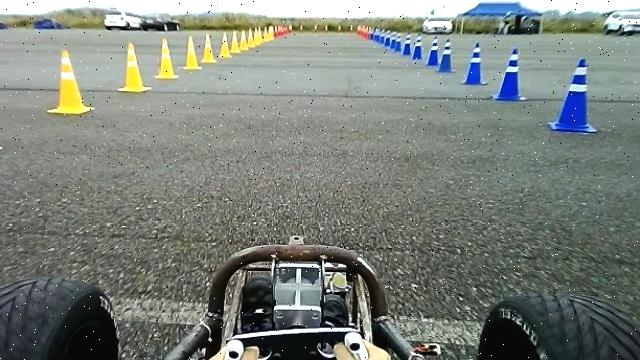blue cone: (549, 57, 598, 133), (495, 47, 528, 101), (462, 41, 488, 85), (436, 38, 457, 73), (427, 34, 440, 66), (412, 32, 424, 60), (403, 32, 412, 56)
yellow cone: (47, 49, 95, 114), (118, 42, 152, 92), (155, 36, 179, 78), (183, 35, 202, 69), (202, 32, 216, 63), (219, 32, 232, 57), (230, 30, 241, 54), (239, 28, 250, 50)
